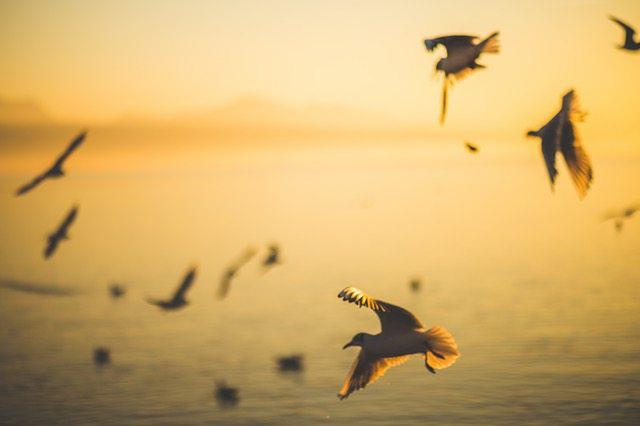bird: (322, 275, 474, 407), (522, 79, 604, 208), (412, 24, 513, 128)
